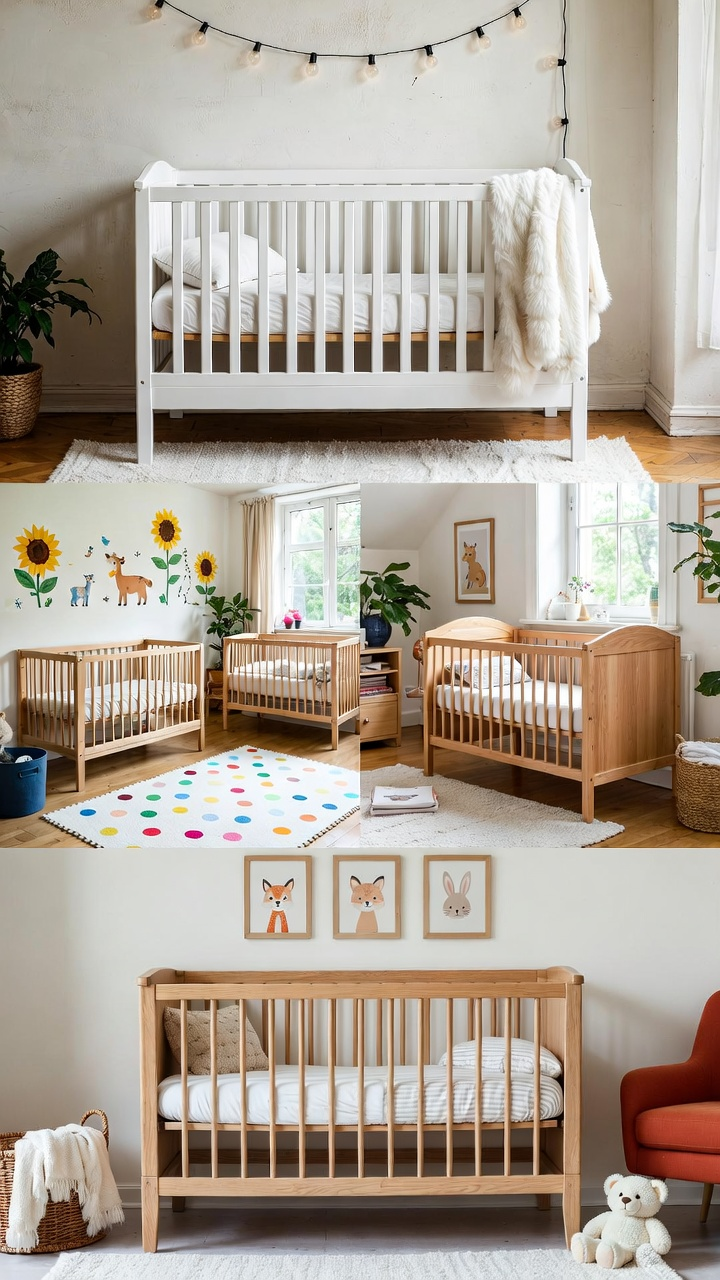crib: (135, 162, 586, 464), (139, 967, 582, 1250), (424, 617, 679, 821), (18, 639, 202, 790), (223, 629, 358, 749)
